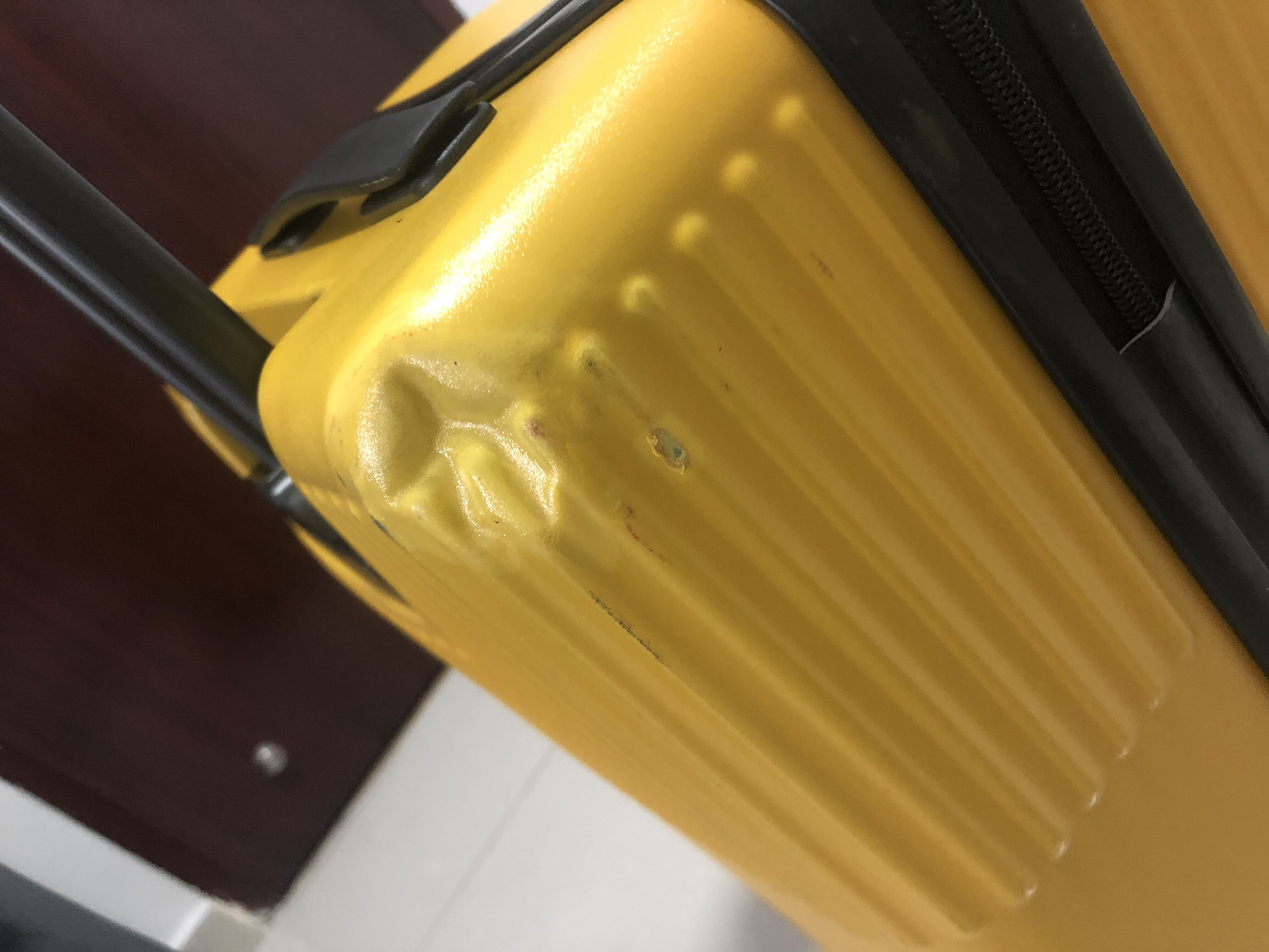rupture: (358, 358, 561, 545)
